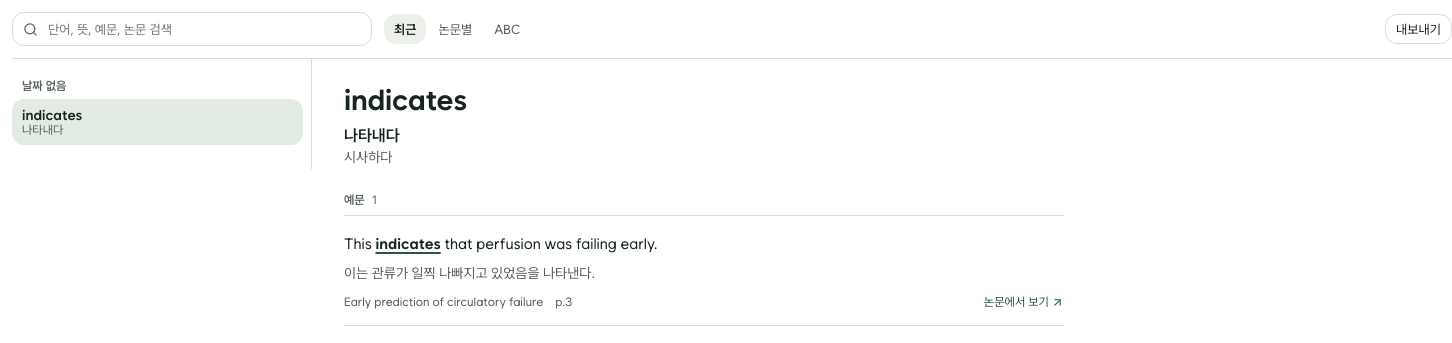
Test: LibraryVocabulary › copies a Markdown table with the kept example and saves a CSV file
Expected: the text "이는 관류가 일찍 나빠지고 있었음을 나타낸다." is shown, [344,265,595,281]
Step 1. Click the heading "내보내기" → [1418, 29], box [1385,14,1451,44]
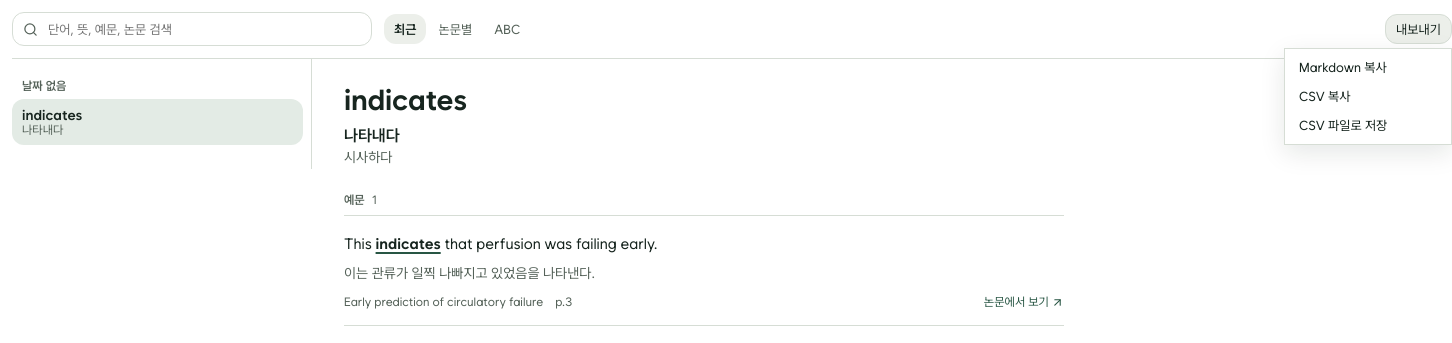
Step 2. Click the button "Markdown 복사" → [1368, 68], box [1289,53,1447,82]
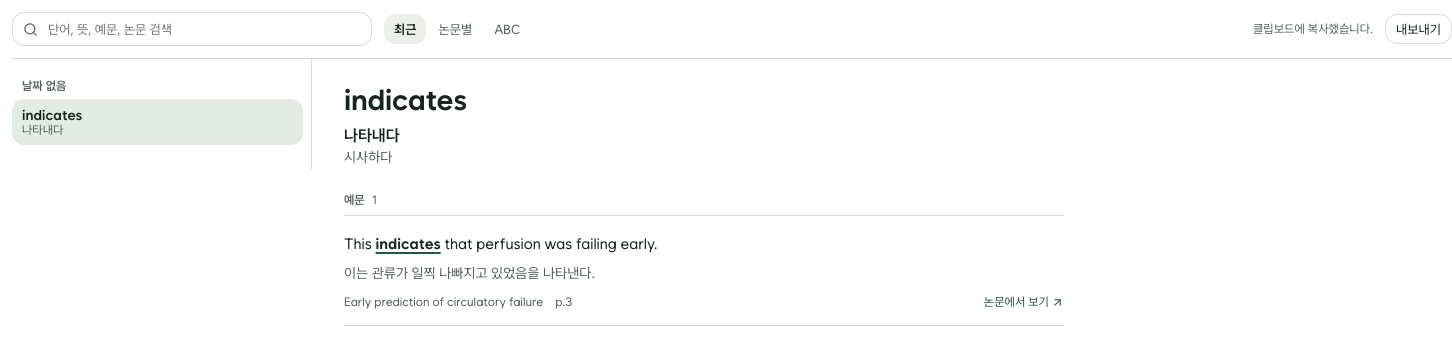
Now the message shows "복사했습니다", box [1253,22,1373,36]
Step 3. Click the heading "내보내기" → [1418, 29], box [1385,14,1451,44]
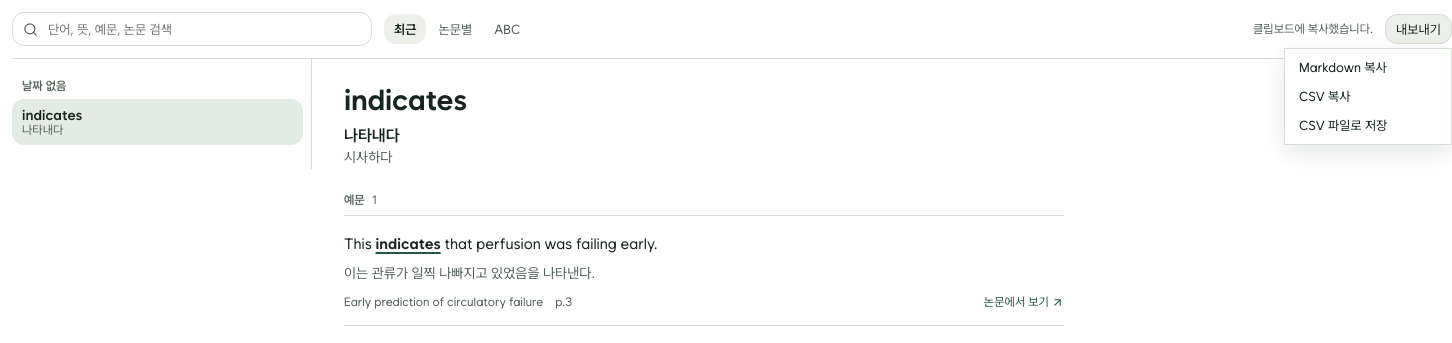
Step 4. Click the button "CSV 파일로 저장" → [1368, 126], box [1289,111,1447,140]
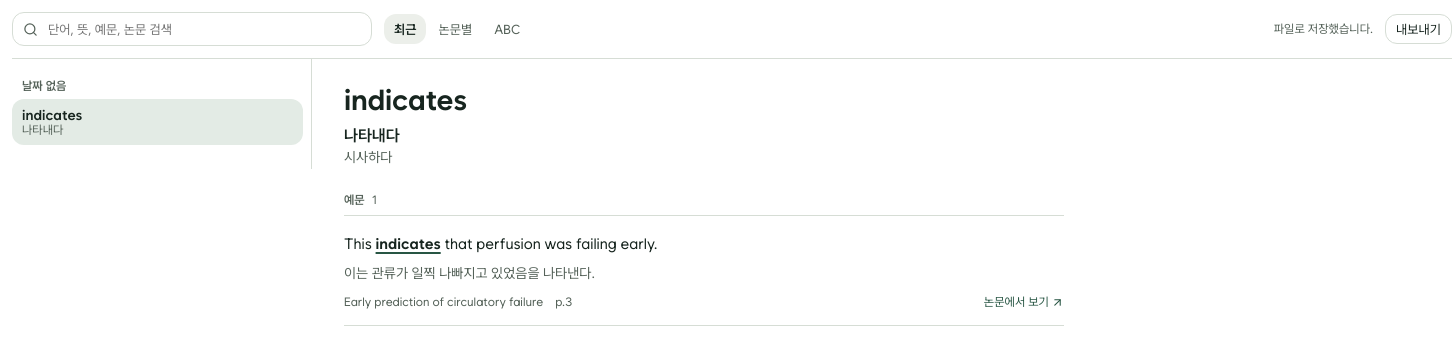
Now the message shows "파일로 저장했습니다", box [1274,22,1373,36]
